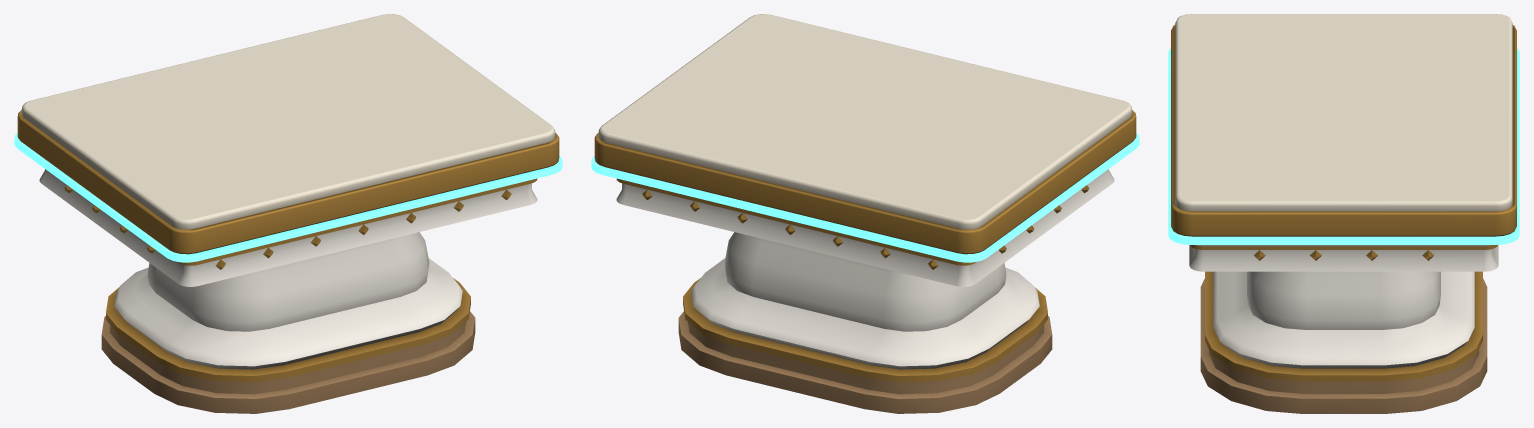
The model's file is plinth.fbx.
3 renders of one model, left to right at view 1: azimuth 30°, elevation 25°; view 2: azimuth 150°, elevation 25°; view 3: azimuth 270°, elevation 25°, orthographic. The views are drawn at different scales.
Visible parts, largest first — view 1: plinth, PlinthRim; view 2: plinth, PlinthRim; view 3: plinth, PlinthRim.
Part boxes in pixels (bbox=[...]): plinth: bbox=[17, 14, 559, 413]; PlinthRim: bbox=[14, 133, 562, 262]; plinth: bbox=[594, 14, 1136, 413]; PlinthRim: bbox=[591, 133, 1139, 262]; plinth: bbox=[1171, 14, 1516, 413]; PlinthRim: bbox=[1168, 48, 1519, 244].
Size of the model in its own units: 1.65 by 0.9 by 1.25.
